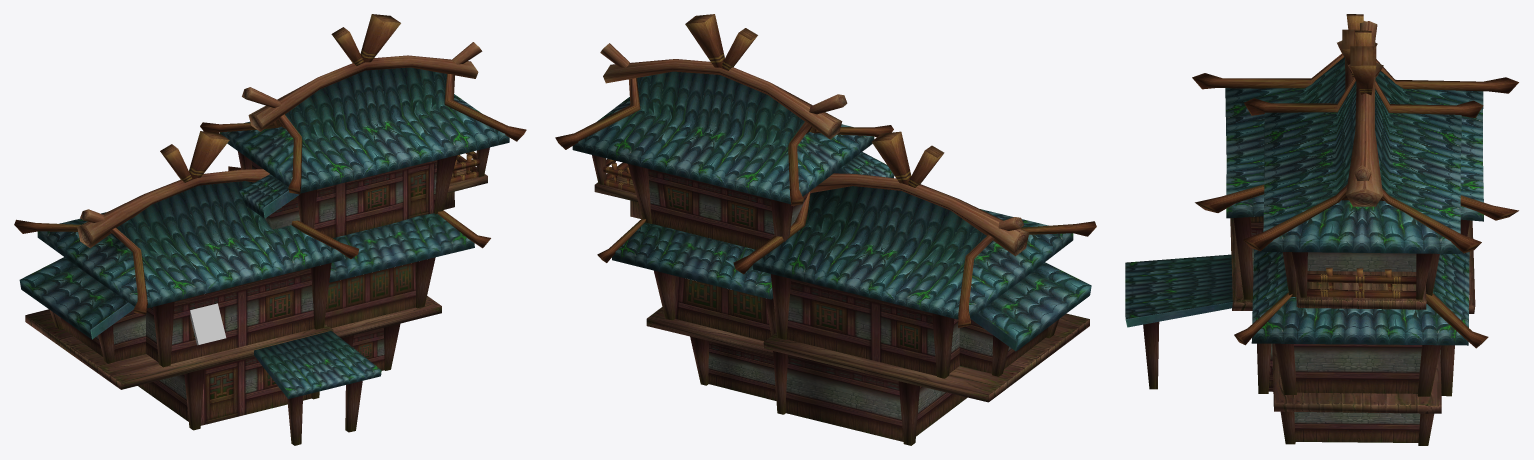
Rendered from environment_Building_diaojiaolou_001_k.FBX.
3 renders of one model, left to right at view 1: azimuth 30°, elevation 25°; view 2: azimuth 150°, elevation 25°; view 3: azimuth 270°, elevation 25°, orthographic. The views are drawn at different scales.
Visible parts, largest first — view 1: environment_Building_diaojiaolou_001_k01, environment_Building_diaojiaolou_001_k04, environment_Building_diaojiaolou_001_k02, environment_Building_diaojiaolou_001_k05, environment_Building_diaojiaolou_001_k03, environment_Building_diaojiaolou_001_k07, environment_Building_diaojiaolou_001_k11, environment_Building_diaojiaolou_001_k06, environment_Building_diaojiaolou_001_k10, environment_Building_diaojiaolou_001_k09; view 2: environment_Building_diaojiaolou_001_k01, environment_Building_diaojiaolou_001_k02, environment_Building_diaojiaolou_001_k04, environment_Building_diaojiaolou_001_k07, environment_Building_diaojiaolou_001_k05, environment_Building_diaojiaolou_001_k03, environment_Building_diaojiaolou_001_k06, environment_Building_diaojiaolou_001_k11, environment_Building_diaojiaolou_001_k09; view 3: environment_Building_diaojiaolou_001_k01, environment_Building_diaojiaolou_001_k07, environment_Building_diaojiaolou_001_k02, environment_Building_diaojiaolou_001_k03, environment_Building_diaojiaolou_001_k05, environment_Building_diaojiaolou_001_k06, environment_Building_diaojiaolou_001_k09.
Boxes of the visible parts, x1=… form: environment_Building_diaojiaolou_001_k01: x1=19, y1=67, x2=509, y2=398; environment_Building_diaojiaolou_001_k04: x1=170, y1=160, x2=437, y2=425; environment_Building_diaojiaolou_001_k02: x1=49, y1=42, x2=489, y2=445; environment_Building_diaojiaolou_001_k05: x1=25, y1=161, x2=487, y2=389; environment_Building_diaojiaolou_001_k03: x1=14, y1=74, x2=526, y2=314; environment_Building_diaojiaolou_001_k07: x1=60, y1=161, x2=299, y2=421; environment_Building_diaojiaolou_001_k11: x1=324, y1=262, x2=415, y2=328; environment_Building_diaojiaolou_001_k06: x1=160, y1=14, x2=479, y2=183; environment_Building_diaojiaolou_001_k10: x1=190, y1=303, x2=226, y2=345; environment_Building_diaojiaolou_001_k09: x1=90, y1=190, x2=299, y2=398; environment_Building_diaojiaolou_001_k01: x1=572, y1=71, x2=1091, y2=351; environment_Building_diaojiaolou_001_k02: x1=592, y1=43, x2=1059, y2=445; environment_Building_diaojiaolou_001_k04: x1=648, y1=169, x2=936, y2=375; environment_Building_diaojiaolou_001_k07: x1=708, y1=191, x2=1047, y2=441; environment_Building_diaojiaolou_001_k05: x1=594, y1=168, x2=1089, y2=402; environment_Building_diaojiaolou_001_k03: x1=555, y1=78, x2=1096, y2=327; environment_Building_diaojiaolou_001_k06: x1=603, y1=14, x2=944, y2=193; environment_Building_diaojiaolou_001_k11: x1=675, y1=276, x2=771, y2=341; environment_Building_diaojiaolou_001_k09: x1=834, y1=168, x2=1017, y2=351; environment_Building_diaojiaolou_001_k01: x1=1125, y1=57, x2=1483, y2=345; environment_Building_diaojiaolou_001_k07: x1=1250, y1=216, x2=1441, y2=442; environment_Building_diaojiaolou_001_k02: x1=1143, y1=21, x2=1469, y2=445; environment_Building_diaojiaolou_001_k03: x1=1192, y1=53, x2=1518, y2=348; environment_Building_diaojiaolou_001_k05: x1=1230, y1=218, x2=1475, y2=413; environment_Building_diaojiaolou_001_k06: x1=1307, y1=14, x2=1416, y2=298; environment_Building_diaojiaolou_001_k09: x1=1125, y1=302, x2=1232, y2=327.
Size of the model in its own units: 1064 by 671 by 772.
